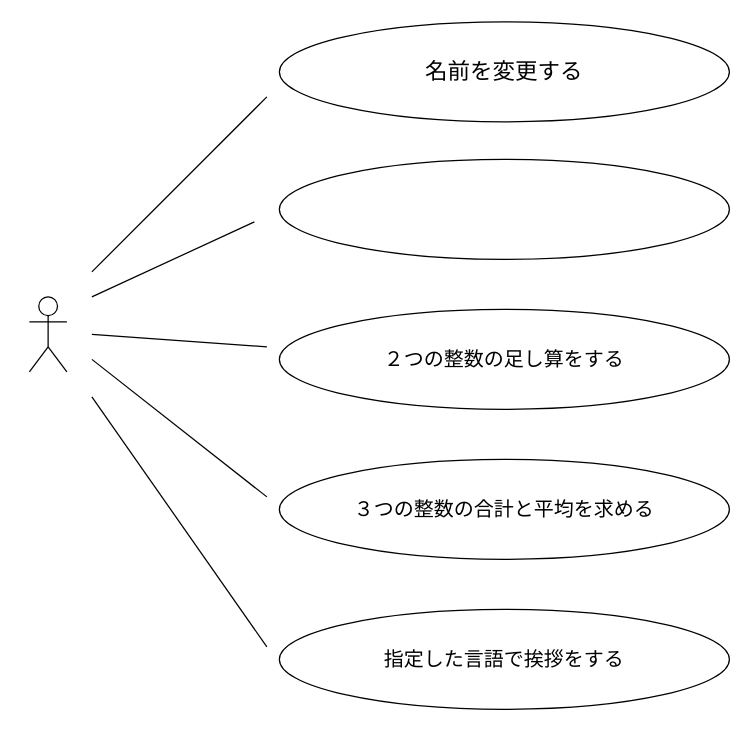
Some shapes in this 751 by 731 pixel diagram are drawn without their labels. The box of each missing label's shape, as (x1, y1, x2, y2) in pixels:
ユーザ: (28, 296, 67, 372)
時刻に応じた挨拶をする: (278, 158, 729, 259)
